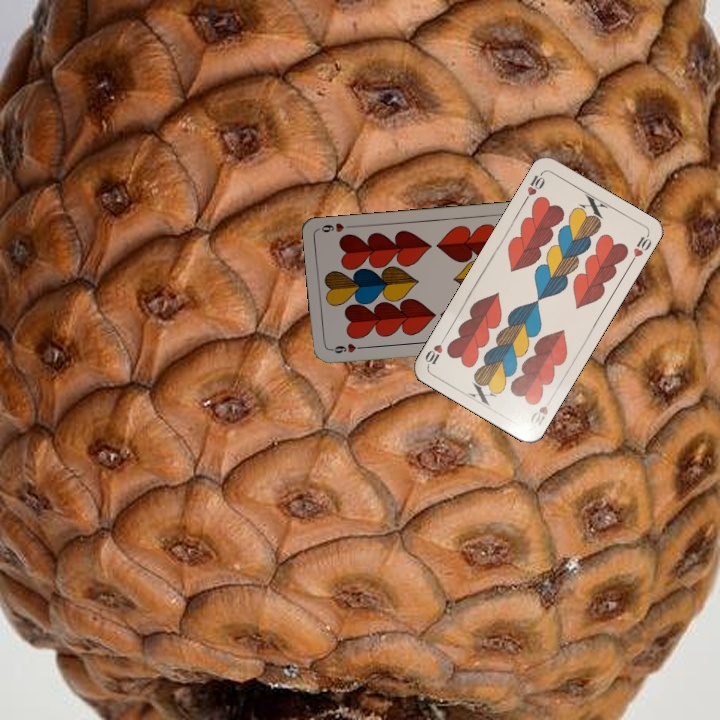H10: (526, 393, 555, 429), (520, 168, 547, 205)
H9: (327, 339, 367, 356)
